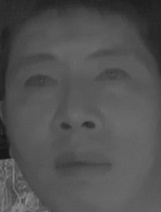eye: (93, 64, 132, 86), (20, 72, 59, 93)
mouth: (44, 143, 114, 184)
